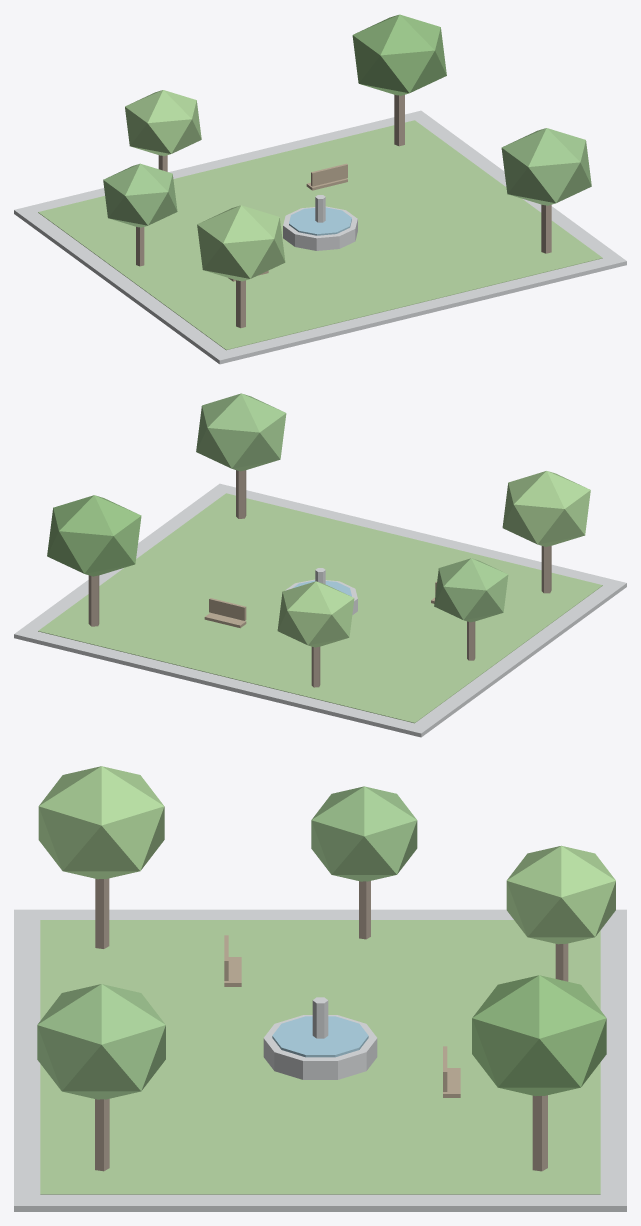
The model's file is Area_park.glb.
3 views of the same model, one above another, from view 1: azimuth 30°, elevation 25°; view 2: azimuth 150°, elevation 25°; view 3: azimuth 270°, elevation 25° (orthographic). The views are drawn at different scales.
Visible parts, largest first — view 1: grass_pad, platform, leaf3, leaf1, leaf0, leaf4, leaf2, fountain_base, fountain_water, benchback0, trunk3, trunk1; view 2: grass_pad, platform, leaf3, leaf1, leaf0, leaf4, leaf2, trunk3, benchback0, trunk1, trunk0; view 3: grass_pad, platform, leaf3, leaf1, leaf0, leaf4, leaf2, fountain_base, fountain_water, trunk3, trunk1, trunk0 (+2 smaller).
Boxes of the visible parts, <box> form: grass_pad: <box>38,120,602,350</box>; platform: <box>14,110,626,364</box>; leaf3: <box>352,14,446,95</box>; leaf1: <box>501,128,591,205</box>; leaf0: <box>197,205,285,281</box>; leaf4: <box>125,90,201,156</box>; leaf2: <box>103,163,177,227</box>; fountain_base: <box>283,206,357,250</box>; fountain_water: <box>289,207,351,235</box>; benchback0: <box>311,163,347,186</box>; trunk3: <box>394,94,404,146</box>; trunk1: <box>541,204,551,253</box>; grass_pad: <box>38,493,602,723</box>; platform: <box>14,483,626,737</box>; leaf3: <box>47,495,141,576</box>; leaf1: <box>196,393,286,471</box>; leaf0: <box>502,471,590,546</box>; leaf4: <box>277,581,354,647</box>; leaf2: <box>434,558,508,622</box>; trunk3: <box>88,575,99,626</box>; benchback0: <box>209,598,246,620</box>; trunk1: <box>236,470,246,518</box>; trunk0: <box>541,546,551,593</box>; grass_pad: <box>40,920,600,1194</box>; platform: <box>14,909,626,1211</box>; leaf3: <box>472,975,606,1096</box>; leaf1: <box>37,984,165,1099</box>; leaf0: <box>38,766,164,879</box>; leaf4: <box>506,845,615,944</box>; leaf2: <box>311,786,417,881</box>; fountain_base: <box>263,1015,377,1079</box>; fountain_water: <box>272,1016,368,1057</box>; trunk3: <box>532,1095,547,1171</box>; trunk1: <box>95,1098,109,1171</box>; trunk0: <box>95,878,109,948</box>.
Size of the model in its own units: 16 by 5.03 by 14.
